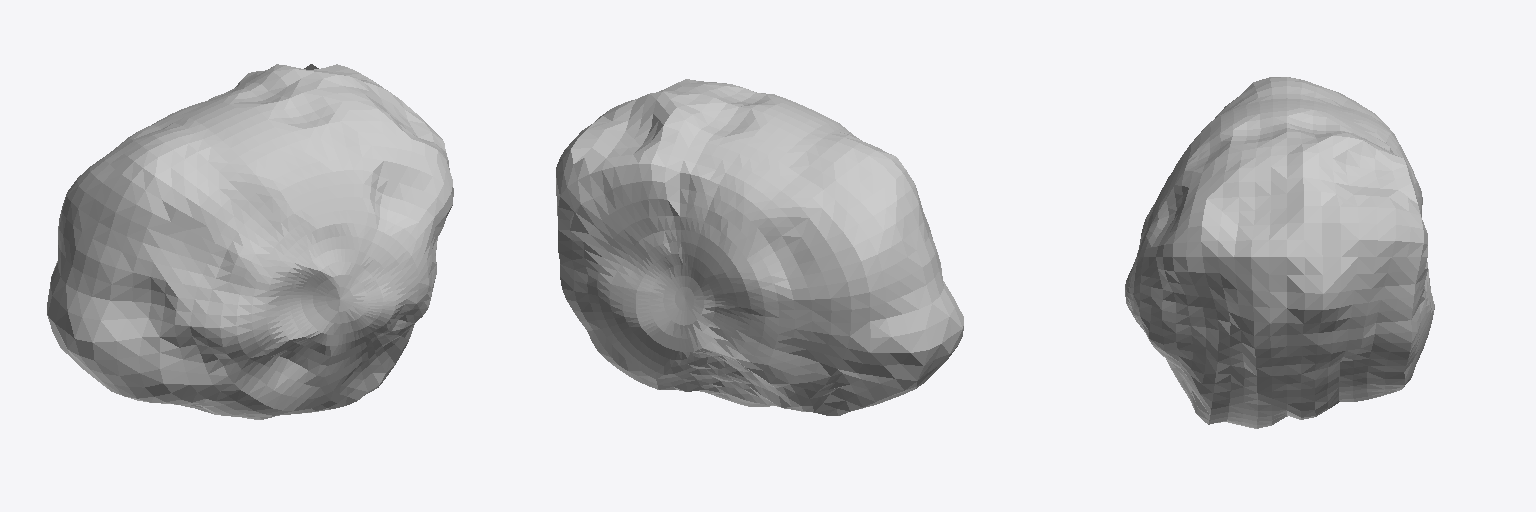
Rendered from S11_Epimetheus_2.obj.
3 renders of one model, left to right at view 1: azimuth 30°, elevation 25°; view 2: azimuth 150°, elevation 25°; view 3: azimuth 270°, elevation 25°, orthographic.
Visible parts, largest first — view 1: S11_Epimetheus_2; view 2: S11_Epimetheus_2; view 3: S11_Epimetheus_2.
Part boxes in pixels (bbox=[...]): S11_Epimetheus_2: bbox=[47, 64, 453, 419]; S11_Epimetheus_2: bbox=[556, 79, 963, 415]; S11_Epimetheus_2: bbox=[1125, 77, 1434, 428].
Size of the model in its own units: 2.86 by 2.21 by 2.04.